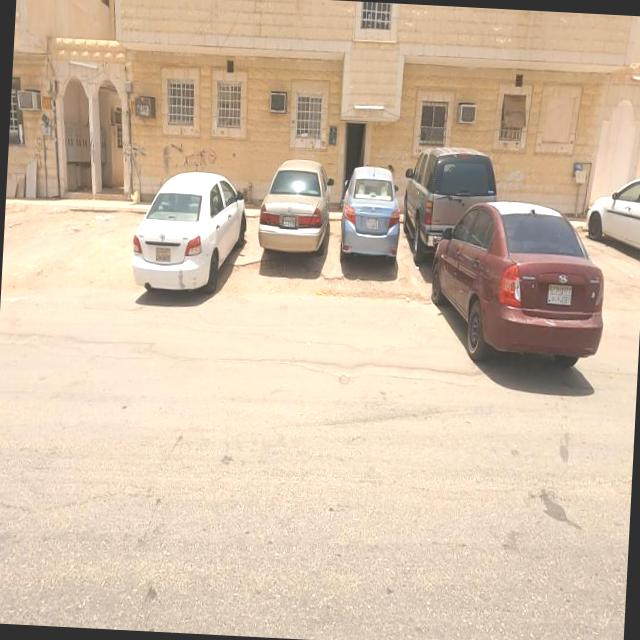debris: (130, 102, 262, 218), (103, 103, 164, 205)
